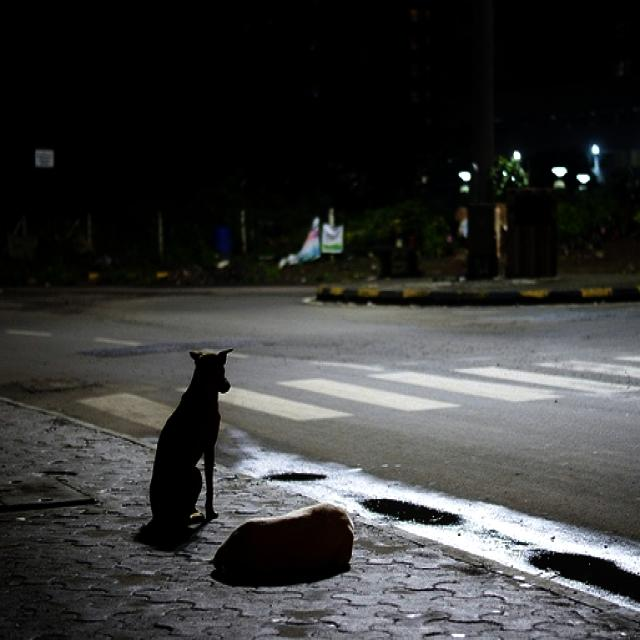Dog: (146, 300, 232, 548), (212, 484, 376, 600)
